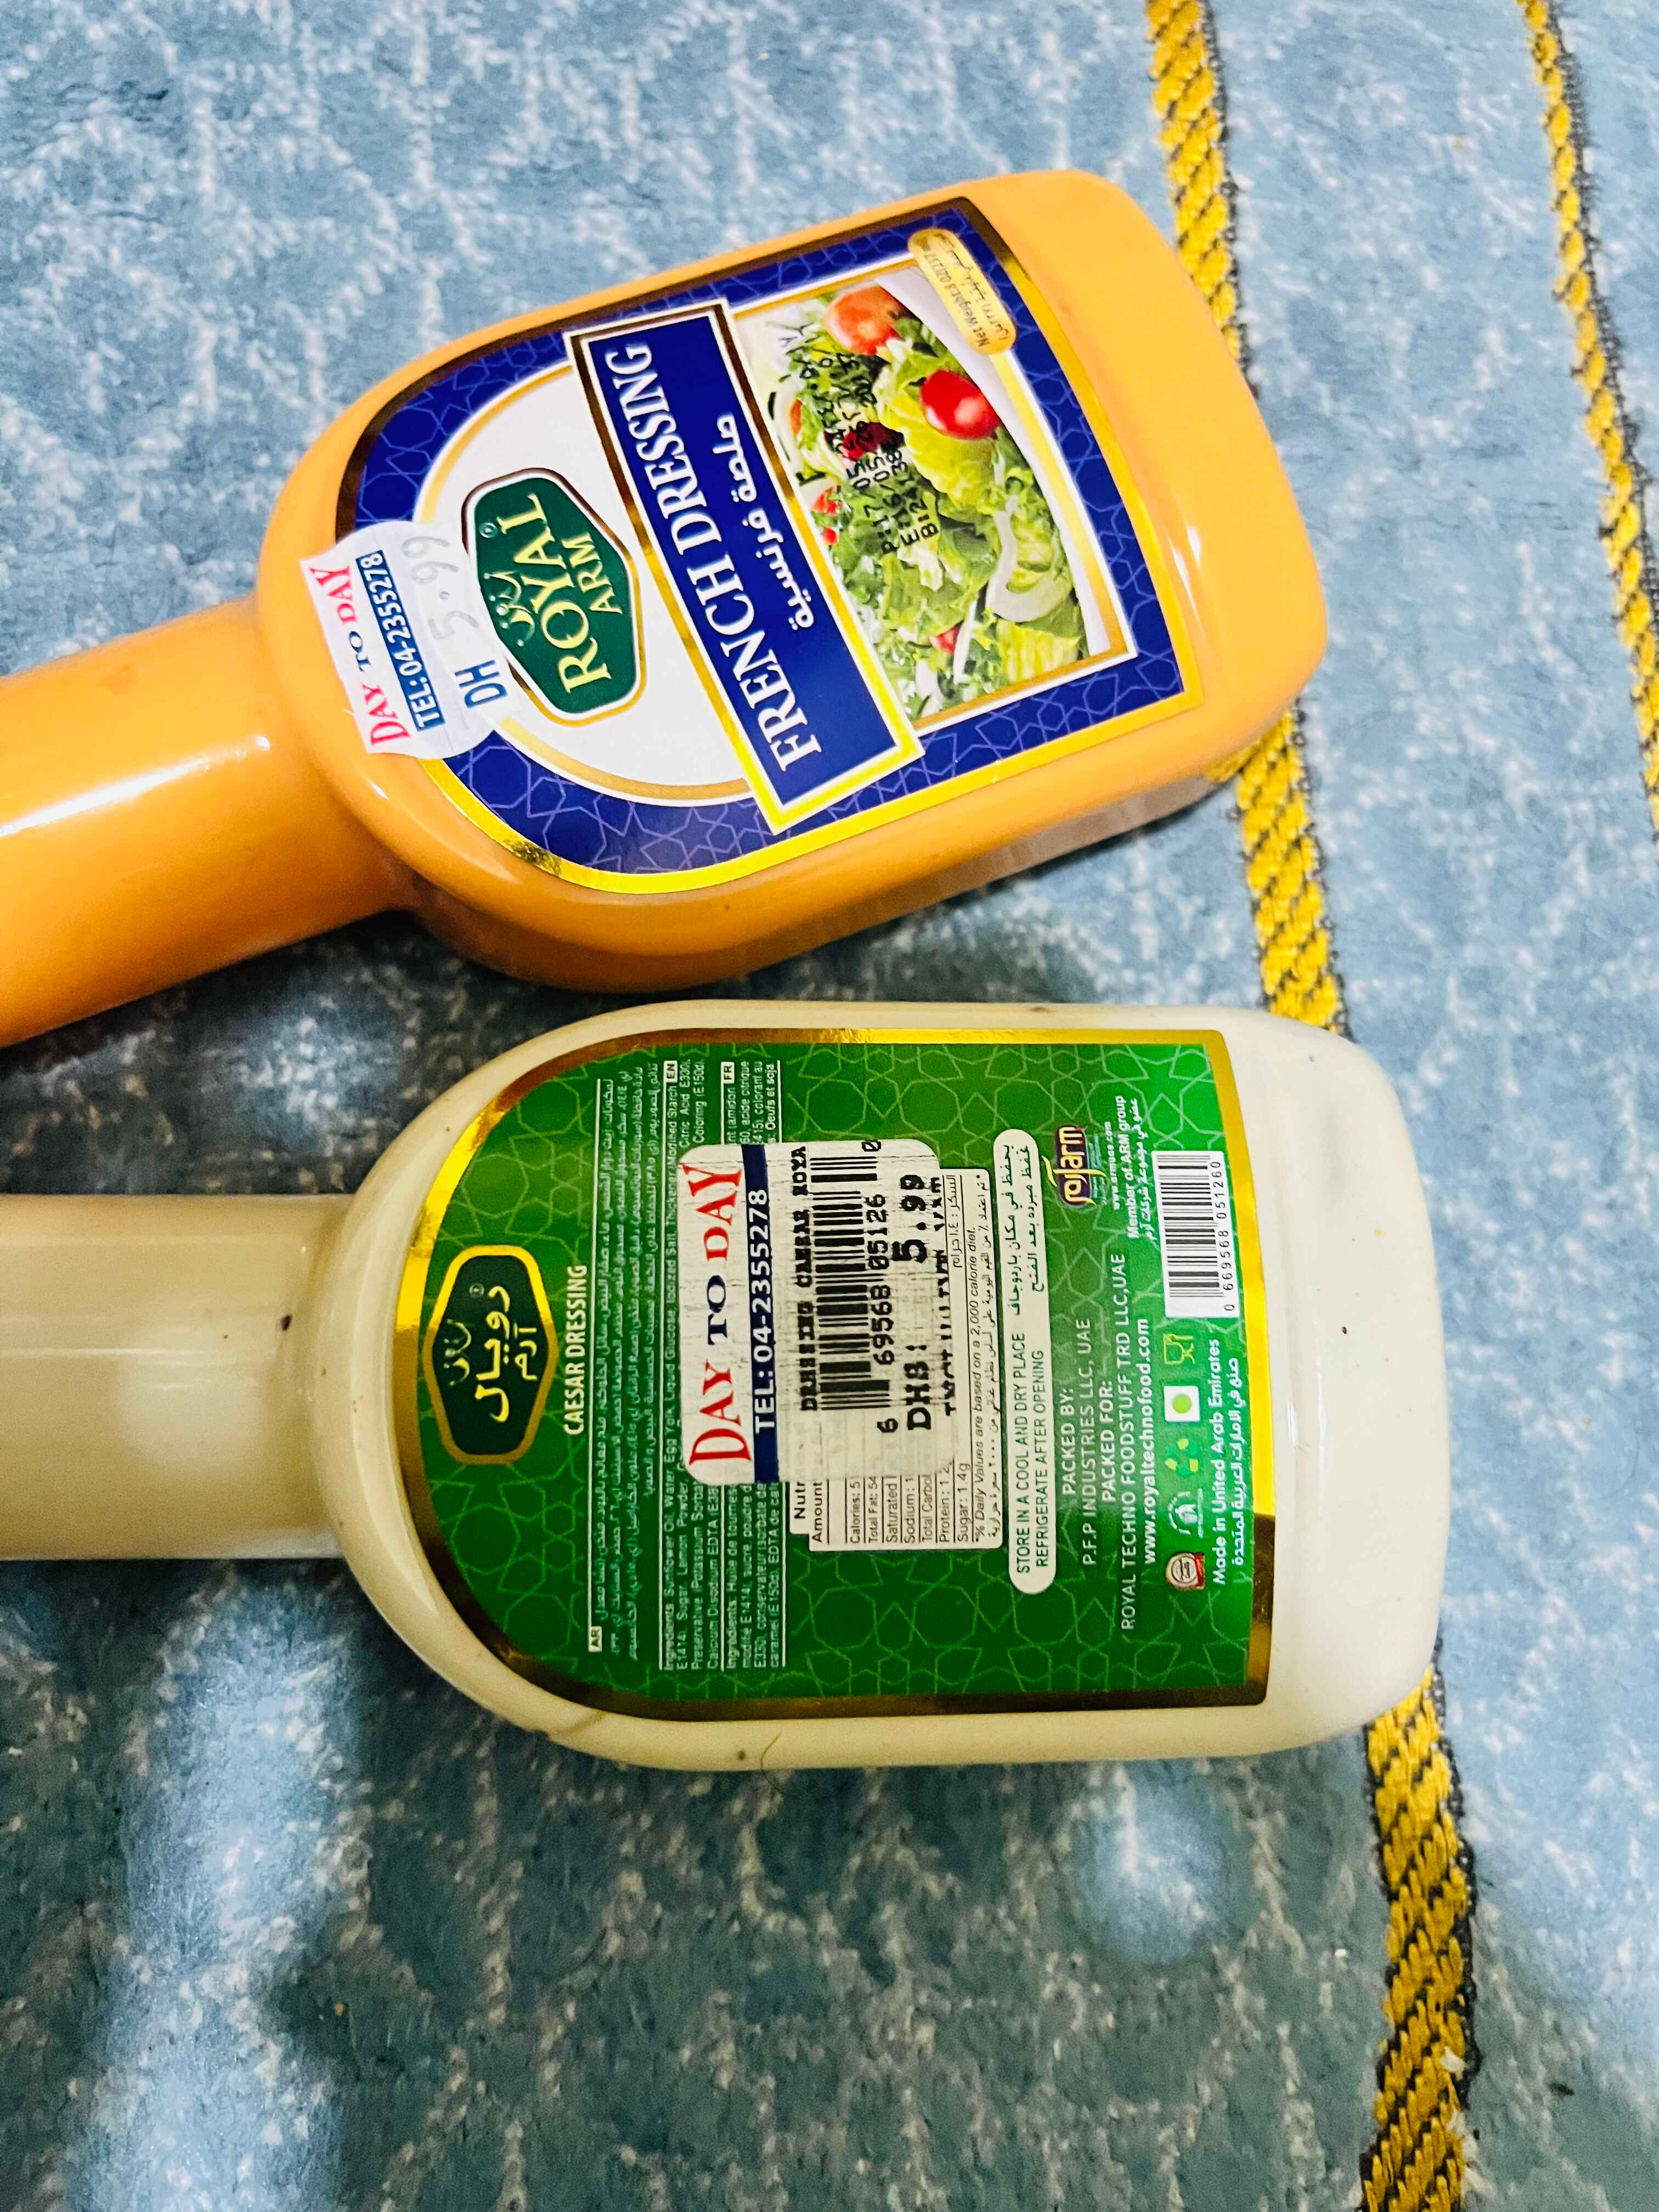PriceTagBig: (676, 1144, 972, 1487)
PriceTagSmall: (300, 519, 516, 763)
